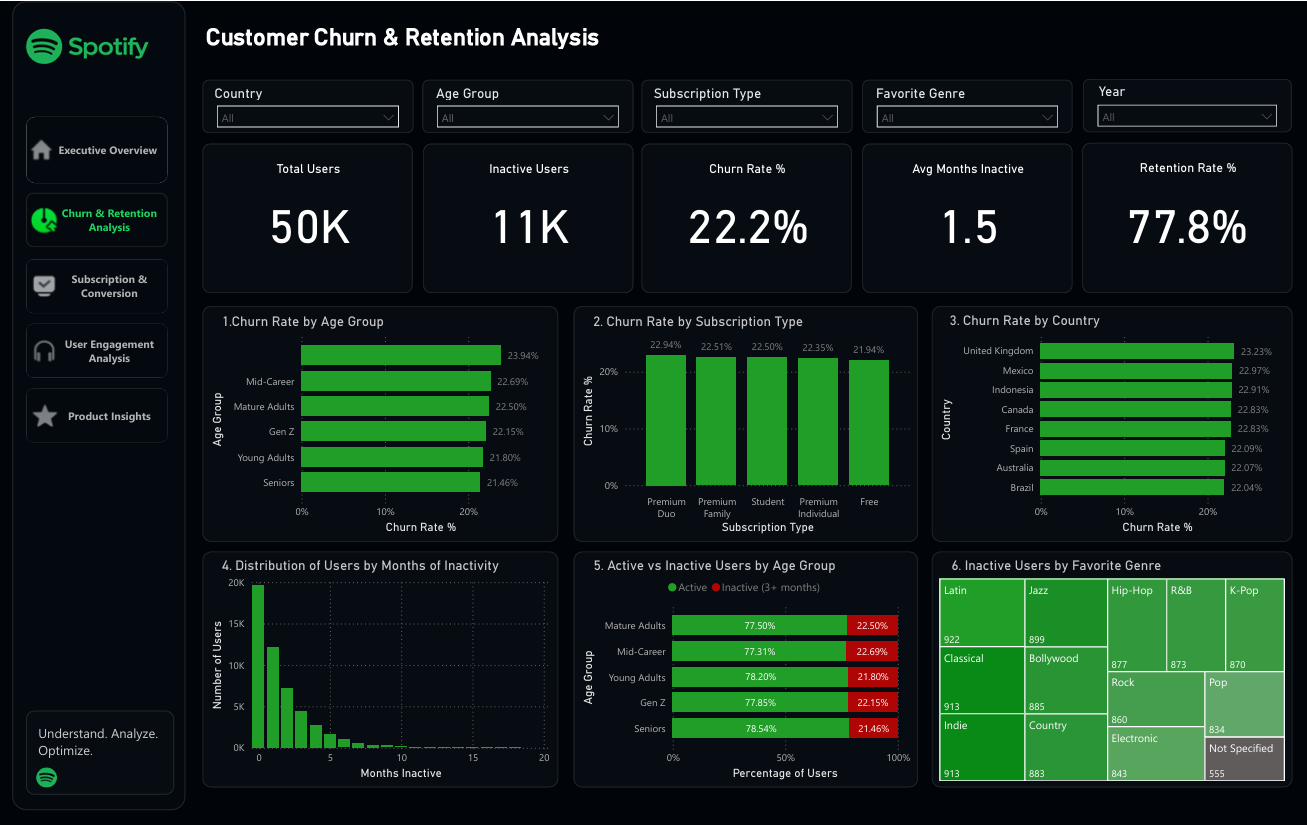

This screenshot's page, from the dashboard's own definition file:
{"tool":"powerbi","page":{"name":"Churn & Retention Analysis","canvas":[1620,1024],"ordinal":1},"visuals":[{"type":"card","title":"Total Users","fields":{"Values":["Data.Total Users"]},"box":[251.2,175.9,260,185.3],"z":0},{"type":"card","title":"Inactive Users","fields":{"Values":["Data.Inactive Users"]},"box":[523.5,175.9,260,185.3],"z":1000},{"type":"card","title":"Churn Rate %","fields":{"Values":["Data.Churn Rate %"]},"box":[794.1,175.9,260,185.3],"z":2000},{"type":"slicer","title":" ","fields":{"Values":["Data.country"]},"box":[250.9,96.7,260.9,66.1],"z":3000},{"type":"slicer","title":" ","fields":{"Values":["Data.Age Group"]},"box":[523,96.7,260.9,66.1],"z":4000},{"type":"slicer","title":" ","fields":{"Values":["Data.subscription_type"]},"box":[793.9,96.7,260.9,66.1],"z":5000},{"type":"slicer","title":" ","fields":{"Values":["Data.favorite_genre"]},"box":[1067,96.7,260,66.1],"z":6000},{"type":"card","title":"Avg Months Inactive","fields":{"Values":["Avg(Data.months_inactive)"]},"box":[1067.1,175.9,260,185.3],"z":7000},{"type":"slicer","title":" ","fields":{"Values":["Data.Year"]},"box":[1340,96,258,66],"z":8000},{"type":"card","title":"Retention Rate %","fields":{"Values":["Data.Retention Rate %"]},"box":[1339.1,175.5,260,185.5],"z":9000},{"type":"clusteredBarChart","title":" ","fields":{"Category":["Data.Age Group"],"Y":["Data.Churn Rate %"]},"box":[251.4,377.1,440,291.4],"z":10000},{"type":"clusteredColumnChart","title":" ","fields":{"Category":["Data.subscription_type"],"Y":["Data.Churn Rate %"]},"box":[710,377.1,425.7,291.4],"z":11000},{"type":"clusteredBarChart","title":" ","fields":{"Category":["Data.country"],"Y":["Data.Churn Rate %"]},"box":[1152.9,377.1,445.7,291.4],"z":12000},{"type":"clusteredColumnChart","title":" ","fields":{"Category":["Data.months_inactive"],"Y":["Data.Total Users"]},"box":[251.4,681.4,440,291.4],"z":13000},{"type":"hundredPercentStackedBarChart","title":" ","fields":{"Category":["Data.Age Group"],"Y":["Data.Total Users"],"Series":["Data.Activity Status"]},"box":[710,681.4,425.7,291.4],"z":14000},{"type":"treemap","title":" ","fields":{"Group":["Data.favorite_genre"],"Values":["Data.Inactive Users"]},"box":[1152.9,681.4,445.7,291.4],"z":15000},{"type":"shape","box":[15.7,0,214.3,1001.4],"z":16000},{"type":"textbox","title":"Country","box":[261.4,102.9,90,25.7],"z":17000},{"type":"textbox","title":"Age Group","box":[535,102.9,110,22.9],"z":18000},{"type":"textbox","title":"Subscription Type","box":[804.3,104.3,180,24.3],"z":19000},{"type":"textbox","title":"Favorite Genre","box":[1078.6,102.9,180,25.7],"z":20000},{"type":"textbox","title":"Year","box":[1354.3,101.4,55.7,25.7],"z":21000},{"type":"shape","box":[33,878,183,104],"z":22000},{"type":"textbox","box":[42.5,889.5,165.5,57],"z":23000},{"type":"textbox","title":"Customer Churn & Retention Analysis","box":[251,27,559,31],"z":24000},{"type":"actionButton","box":[32.9,142.9,175,82.5],"z":25000},{"type":"actionButton","box":[32.9,236.7,175,67.5],"z":26000},{"type":"actionButton","box":[32.9,318.8,175,67.1],"z":27000},{"type":"actionButton","box":[32.9,398.8,175,67.5],"z":28000},{"type":"actionButton","box":[32.9,478.8,175,67.5],"z":29000},{"type":"image","box":[0,0,225.7,121.4],"z":30000},{"type":"textbox","title":"1.Churn Rate by Age Group","box":[270,385.8,260,25.8],"z":31000},{"type":"textbox","title":"2. Churn Rate by Subscription Type","box":[728.9,385.8,292.1,25.8],"z":32000},{"type":"textbox","title":"3. Churn Rate by Country","box":[1170,385,260,27.5],"z":33000},{"type":"textbox","title":"4. Distribution of Users by Months of Inactivity","box":[270,687.5,375,25],"z":34000},{"type":"textbox","title":"5. Active vs Inactive Users by Age Group","box":[729.2,687.7,323.8,25.4],"z":35000},{"type":"textbox","title":"6. Inactive Users by Favorite Genre","box":[1172.3,687.7,296.9,26.2],"z":36000},{"type":"card","fields":{"Values":["Data.Total Users"]},"box":[252.7,231.8,260,79.1],"z":37000},{"type":"card","fields":{"Values":["Data.Inactive Users"]},"box":[525.5,231.8,260,79.1],"z":38000},{"type":"card","fields":{"Values":["Data.Churn Rate %"]},"box":[796.4,231.8,260,79.1],"z":39000},{"type":"card","fields":{"Values":["Avg(Data.months_inactive)"]},"box":[1069.1,231.8,260,79.1],"z":40000},{"type":"card","fields":{"Values":["Data.Retention Rate %"]},"box":[1339.1,231.8,260,79.1],"z":41000},{"type":"image","box":[42.7,947.3,30,27.3],"z":42000}]}

Visuals, with their boxes on the page's 1620x1024 design canvas (x1, y1, x2, y2). These are canvas units, not pixel positions in the 1307x825 screenshot, which may show the page scaled, cropped or inside an application window:
"Total Users" card: 251 176 511 361
"Inactive Users" card: 524 176 784 361
"Churn Rate %" card: 794 176 1054 361
" " slicer: 251 97 512 163
" " slicer: 523 97 784 163
" " slicer: 794 97 1055 163
" " slicer: 1067 97 1327 163
"Avg Months Inactive" card: 1067 176 1327 361
" " slicer: 1340 96 1598 162
"Retention Rate %" card: 1339 176 1599 361
" " clusteredBarChart: 251 377 691 668
" " clusteredColumnChart: 710 377 1136 668
" " clusteredBarChart: 1153 377 1599 668
" " clusteredColumnChart: 251 681 691 973
" " hundredPercentStackedBarChart: 710 681 1136 973
" " treemap: 1153 681 1599 973
shape: 16 0 230 1001
"Country" textbox: 261 103 351 129
"Age Group" textbox: 535 103 645 126
"Subscription Type" textbox: 804 104 984 129
"Favorite Genre" textbox: 1079 103 1259 129
"Year" textbox: 1354 101 1410 127
shape: 33 878 216 982
textbox: 42 890 208 946
"Customer Churn & Retention Analysis" textbox: 251 27 810 58
actionButton: 33 143 208 225
actionButton: 33 237 208 304
actionButton: 33 319 208 386
actionButton: 33 399 208 466
actionButton: 33 479 208 546
image: 0 0 226 121
"1.Churn Rate by Age Group" textbox: 270 386 530 412
"2. Churn Rate by Subscription Type" textbox: 729 386 1021 412
"3. Churn Rate by Country" textbox: 1170 385 1430 412
"4. Distribution of Users by Months of Inactivity" textbox: 270 688 645 712
"5. Active vs Inactive Users by Age Group" textbox: 729 688 1053 713
"6. Inactive Users by Favorite Genre" textbox: 1172 688 1469 714
card - Data.Total Users: 253 232 513 311
card - Data.Inactive Users: 526 232 786 311
card - Data.Churn Rate %: 796 232 1056 311
card - Avg(Data.months_inactive): 1069 232 1329 311
card - Data.Retention Rate %: 1339 232 1599 311
image: 43 947 73 975
